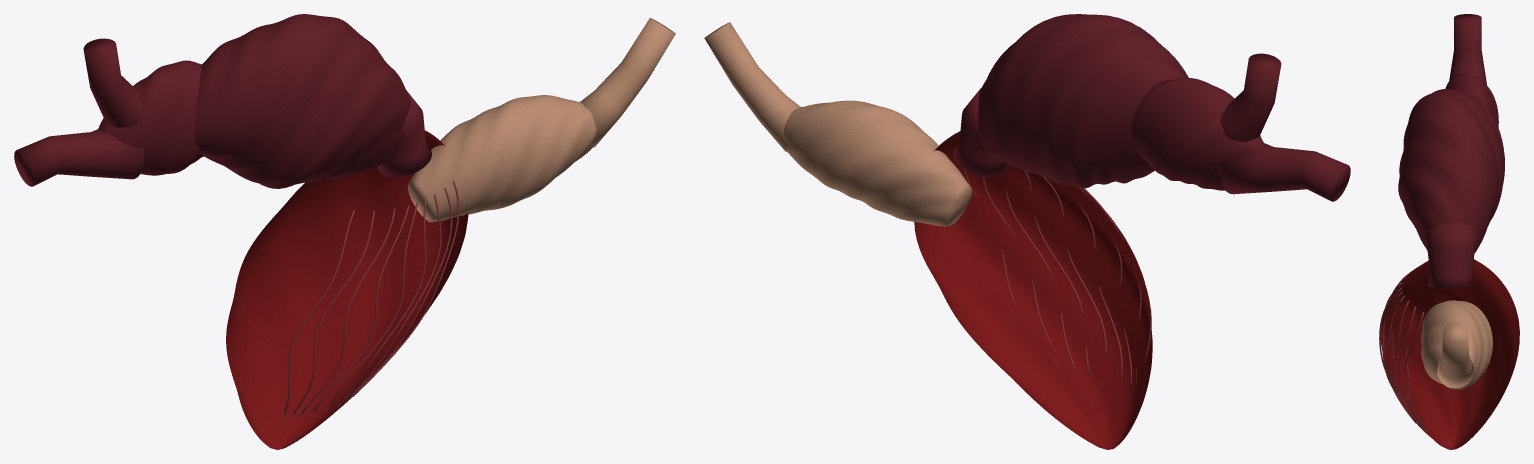
The model's file is teleost_heart_lod0.glb.
3 views of the same model, side by side, from view 1: azimuth 30°, elevation 25°; view 2: azimuth 150°, elevation 25°; view 3: azimuth 270°, elevation 25° (orthographic). The views are drawn at different scales.
Parts seen in each view (by area): view 1: Ventricle, Atrium, BulbusArteriosus, SinusVenosus, Inflow, Outflow, Inflow_Dorsal, AtrioventricularCanal; view 2: Ventricle, Atrium, BulbusArteriosus, SinusVenosus, Inflow, Outflow, Inflow_Dorsal, AtrioventricularCanal; view 3: Ventricle, Atrium, BulbusArteriosus, AtrioventricularCanal, Outflow, Inflow_Dorsal, SinusVenosus, Surface_Fiber_03, Surface_Fiber_02, Surface_Fiber_01, Surface_Fiber_00, Surface_Fiber_05 (+1 smaller).
Boxes of the visible parts, x1=… form: Ventricle: x1=226, y1=130, x2=468, y2=449; Atrium: x1=194, y1=14, x2=410, y2=188; BulbusArteriosus: x1=407, y1=95, x2=596, y2=222; SinusVenosus: x1=98, y1=60, x2=203, y2=175; Inflow: x1=14, y1=129, x2=144, y2=186; Outflow: x1=580, y1=18, x2=675, y2=147; Inflow_Dorsal: x1=83, y1=38, x2=141, y2=127; AtrioventricularCanal: x1=378, y1=90, x2=431, y2=176; Ventricle: x1=914, y1=131, x2=1152, y2=449; Atrium: x1=978, y1=14, x2=1188, y2=188; BulbusArteriosus: x1=784, y1=100, x2=971, y2=226; SinusVenosus: x1=1131, y1=77, x2=1264, y2=190; Inflow: x1=1220, y1=143, x2=1350, y2=201; Outflow: x1=704, y1=22, x2=800, y2=151; Inflow_Dorsal: x1=1220, y1=53, x2=1281, y2=141; AtrioventricularCanal: x1=953, y1=87, x2=1007, y2=177; Ventricle: x1=1379, y1=259, x2=1519, y2=449; Atrium: x1=1398, y1=89, x2=1504, y2=253; BulbusArteriosus: x1=1421, y1=300, x2=1492, y2=389; AtrioventricularCanal: x1=1426, y1=222, x2=1475, y2=288; Outflow: x1=1437, y1=322, x2=1474, y2=388; Inflow_Dorsal: x1=1449, y1=14, x2=1486, y2=84; SinusVenosus: x1=1445, y1=72, x2=1498, y2=127; Surface_Fiber_03: x1=1387, y1=295, x2=1415, y2=423; Surface_Fiber_02: x1=1391, y1=300, x2=1420, y2=427; Surface_Fiber_01: x1=1397, y1=306, x2=1423, y2=429; Surface_Fiber_00: x1=1405, y1=312, x2=1426, y2=431; Surface_Fiber_05: x1=1379, y1=288, x2=1411, y2=410.
Size of the model in its own units: 1.11 by 0.7241 by 0.2535.
4 materials, 3 textured.
